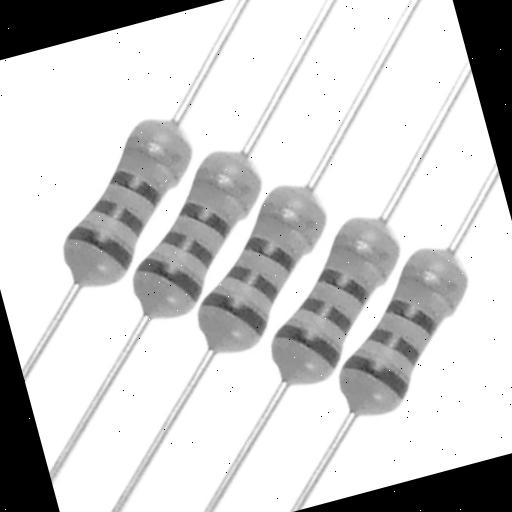RESISTOR: (130, 153, 422, 378), (247, 215, 512, 452), (64, 116, 315, 344), (214, 192, 462, 404), (0, 103, 226, 307)
